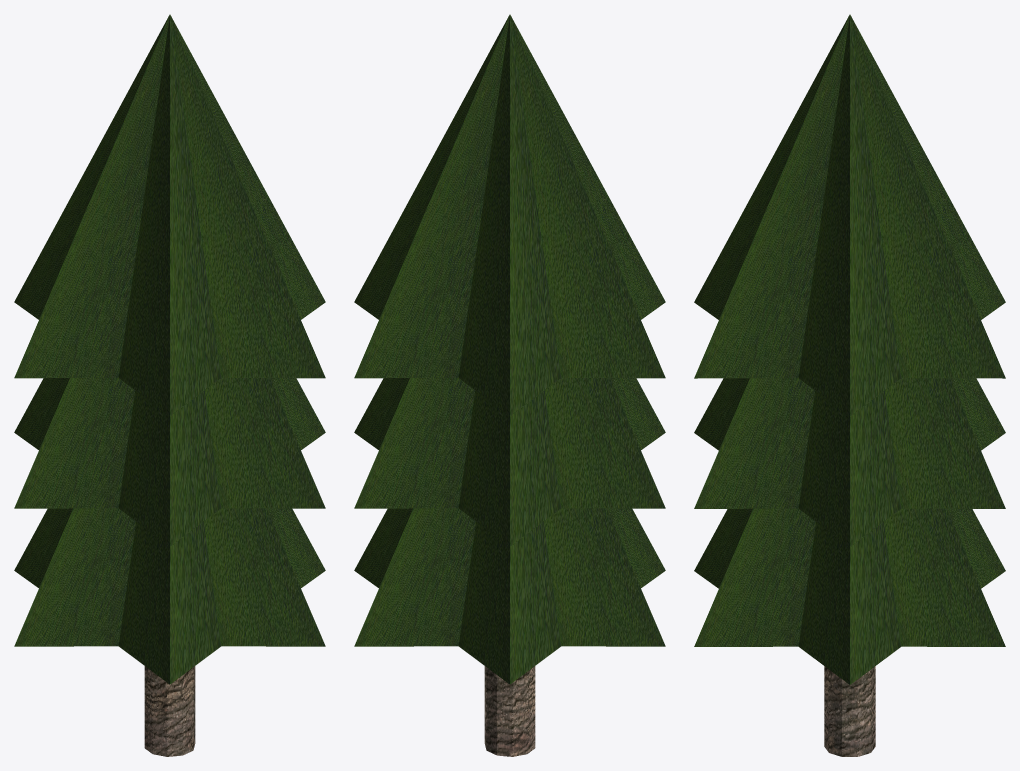
The model's file is Tree-1.obj.
3 renders of one model, left to right at view 1: azimuth 30°, elevation 25°; view 2: azimuth 150°, elevation 25°; view 3: azimuth 270°, elevation 25°, orthographic.
Parts seen in each view (by area): view 1: Cone.002, Cone, Cone.001, Cylinder; view 2: Cone.002, Cone, Cone.001, Cylinder; view 3: Cone.002, Cone, Cone.001, Cylinder.
Part boxes in pixels (bbox=[...]): Cone.002: bbox=[14, 14, 325, 415]; Cone: bbox=[14, 508, 325, 684]; Cone.001: bbox=[14, 378, 325, 546]; Cylinder: bbox=[144, 666, 195, 756]; Cone.002: bbox=[354, 14, 665, 415]; Cone: bbox=[354, 508, 665, 684]; Cone.001: bbox=[354, 378, 665, 546]; Cylinder: bbox=[484, 666, 535, 756]; Cone.002: bbox=[694, 14, 1005, 416]; Cone: bbox=[694, 508, 1005, 684]; Cone.001: bbox=[694, 378, 1005, 546]; Cylinder: bbox=[824, 666, 875, 756].
Size of the model in its own units: 2 by 4.49 by 1.73.
